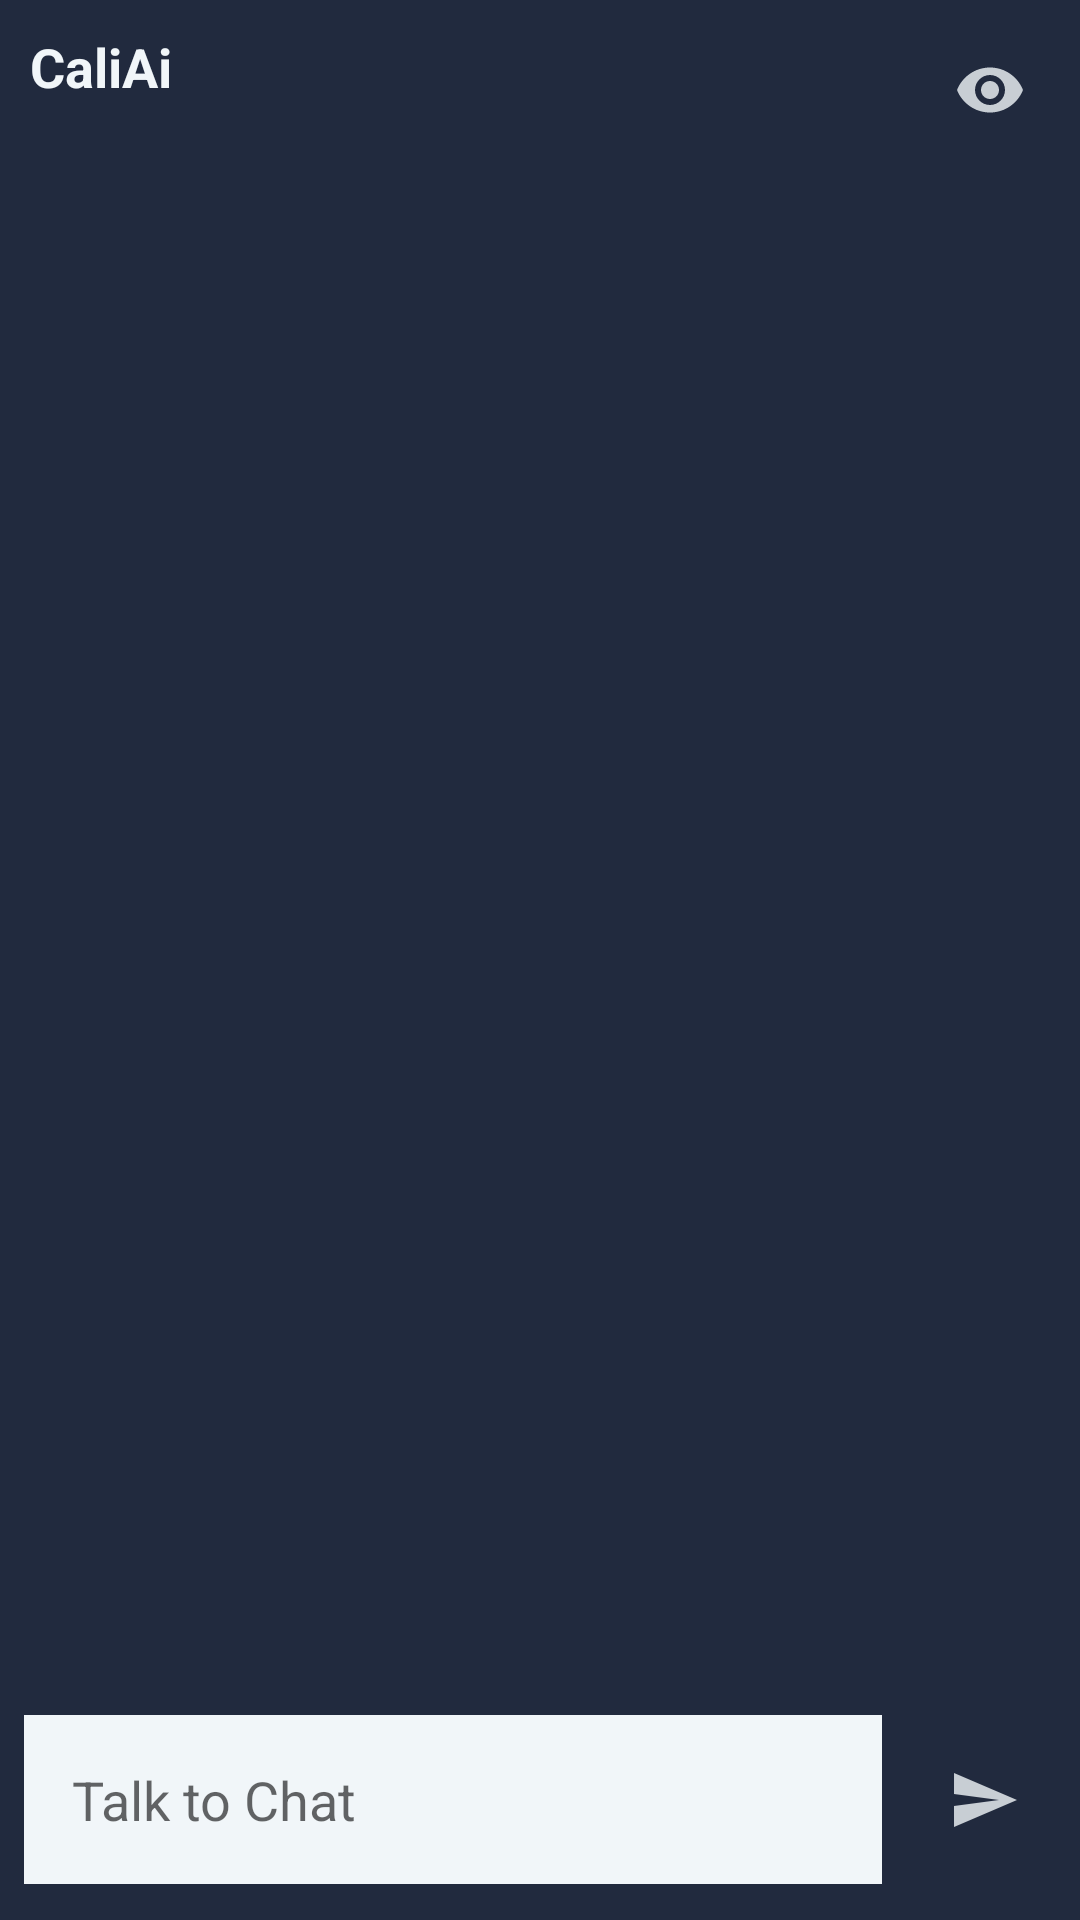

Icons on this 1080px×1920px Android screen, each with the point to tap as [x,y]:
send: [985,1800]
